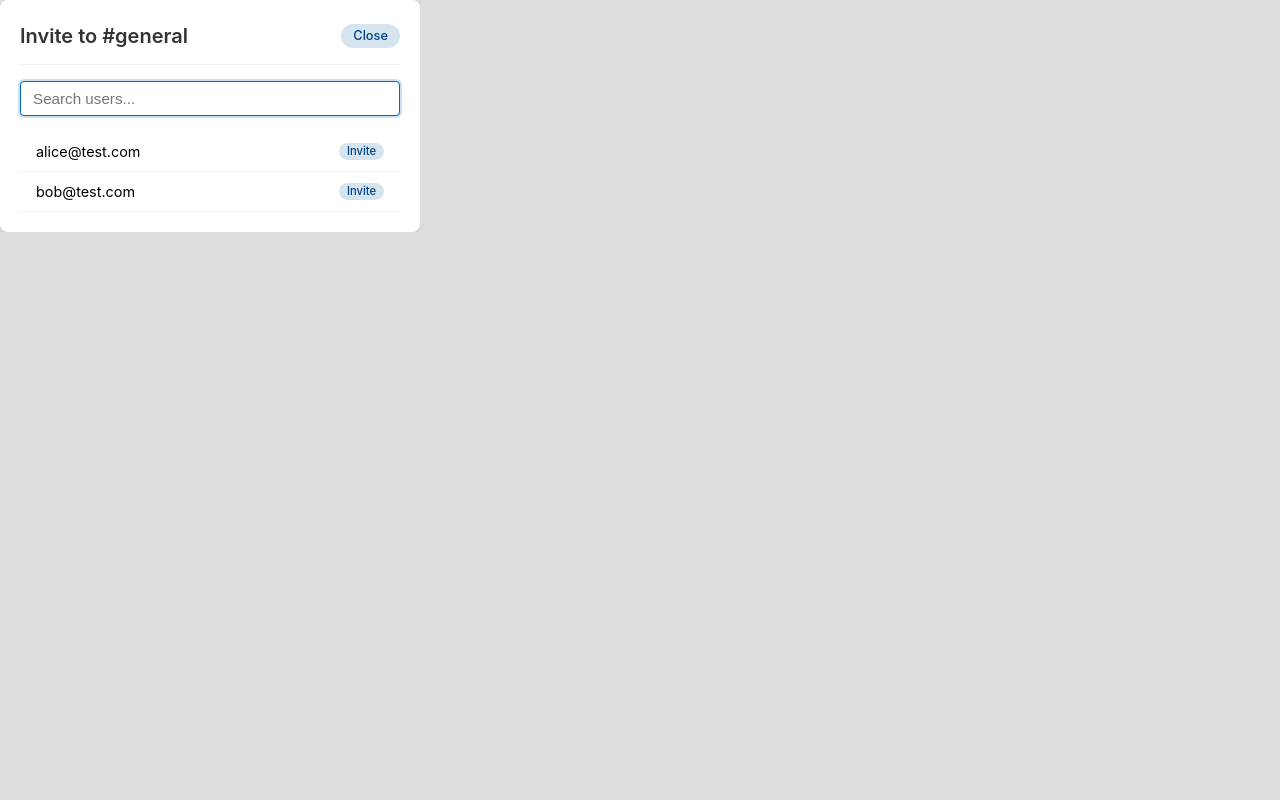
Test: InviteModal › filters users by search
Expected: the text "alice@test.com" is shown, [36, 140, 140, 163]
Type "bob" into the field with placeholder "Search users..." at coordinates (210, 98), box [20, 81, 400, 116]
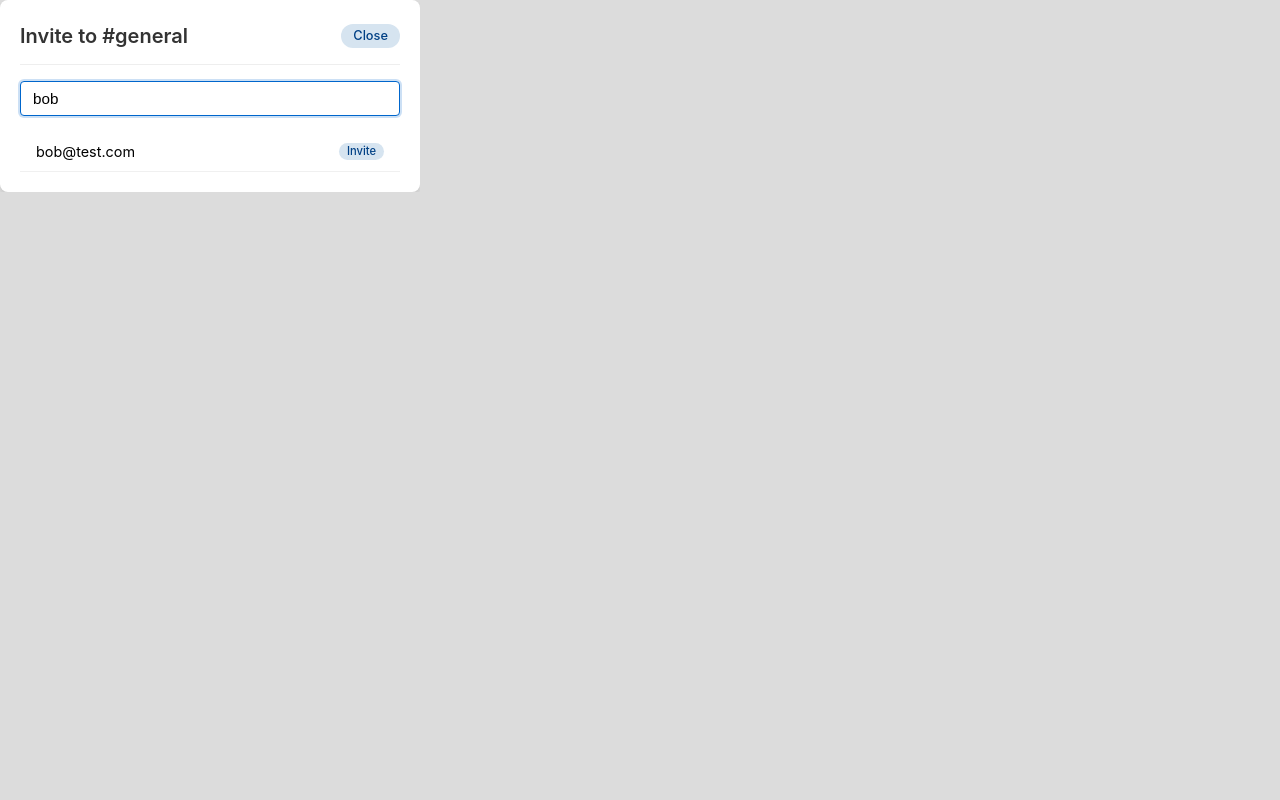
Expected: the text "bob@test.com" is shown, [36, 140, 135, 163]
Expected: the text "alice@test.com" is gone
